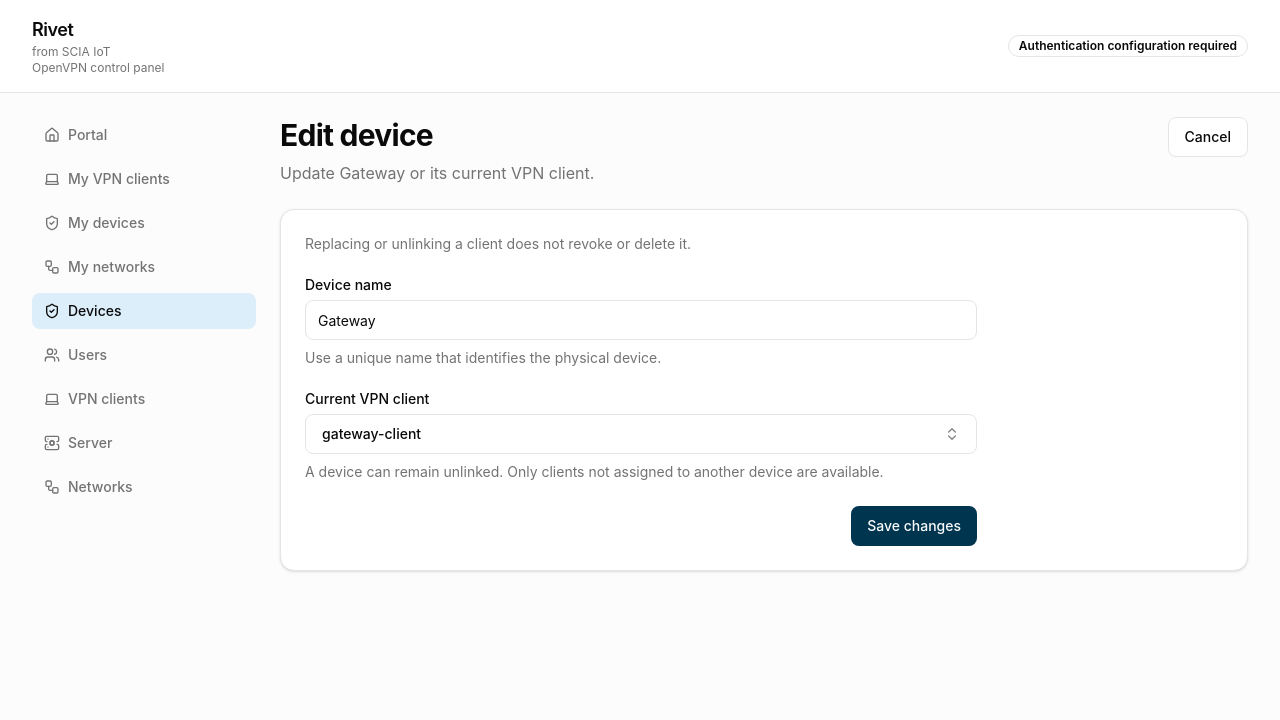
Test: device administration pages › keeps edit state after client assigned elsewhere failure
This screenshot has width=1280, height=720.
Replace the text in the field labelled "Device name" with "Renamed gateway". click: coordinates (641, 320)
box: [305,300,977,340]
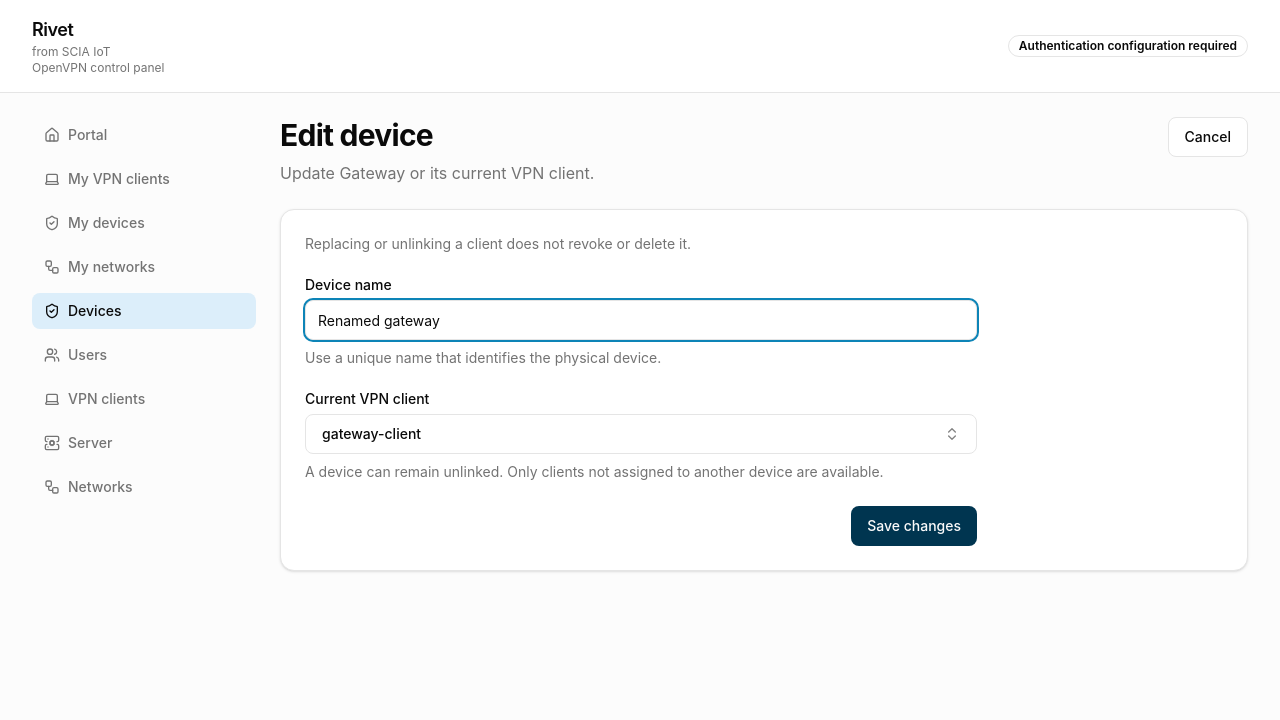
Click the dropdown named "Current VPN client". click: coordinates (372, 434)
box: [305,414,977,454]
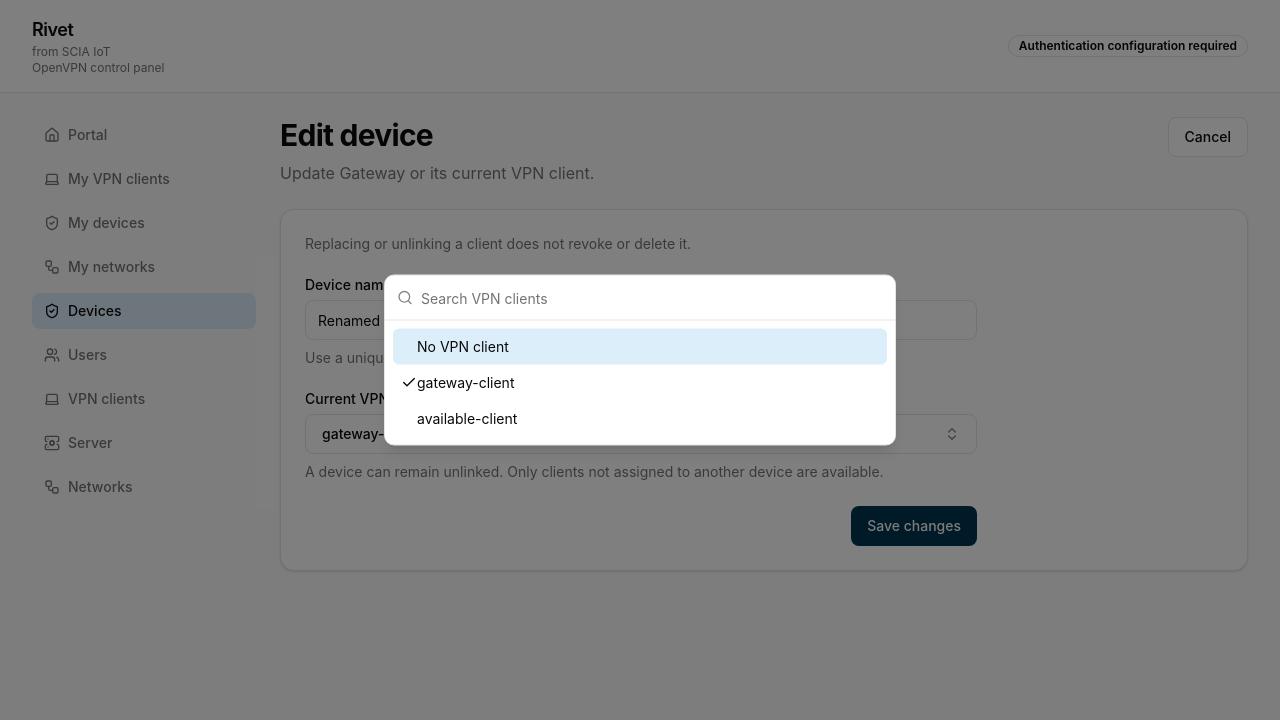
Click the option "available-client". click: coordinates (467, 418)
box: [417,410,517,426]
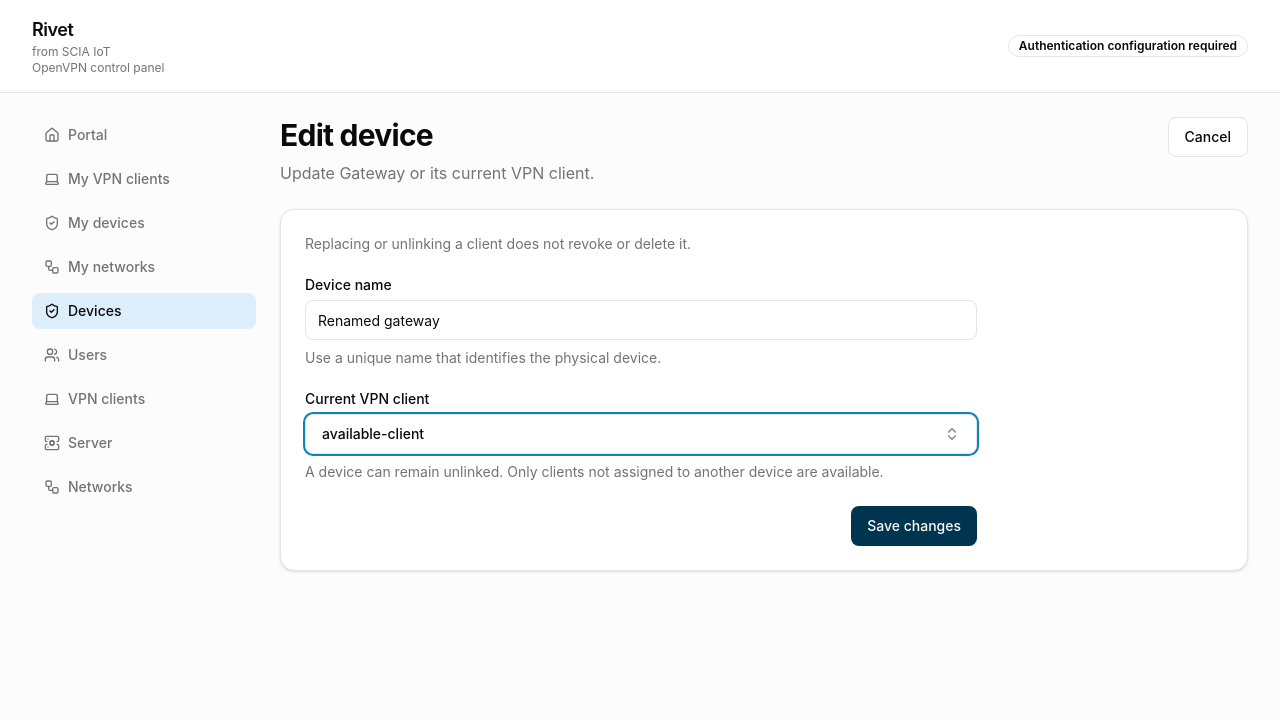
Click the button "Save changes". click: coordinates (914, 526)
box: [851,506,977,546]
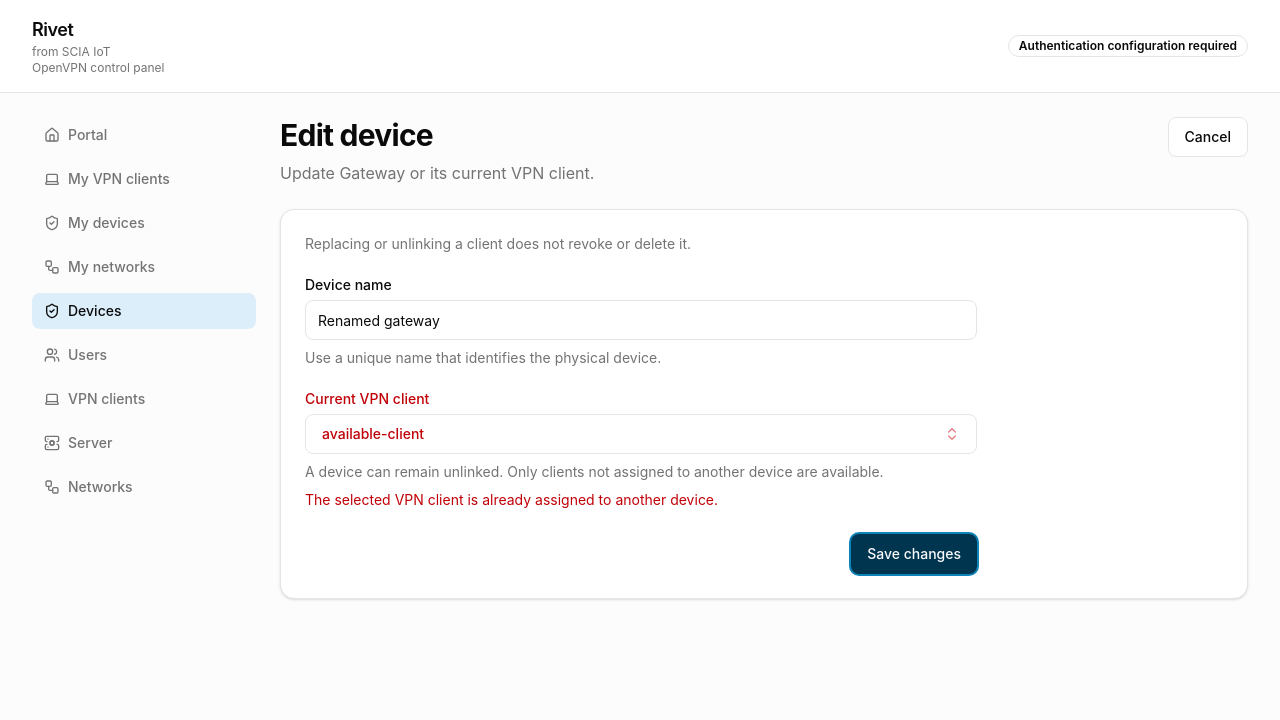
Check: the heading "Edit device" is shown, box [280,117,433,153]
Check: the dropdown named "Current VPN client" reads "available-client", box [305,414,977,454]
Check: the text "The selected VPN client is already assigned to another device." is shown, box [305,491,718,508]
